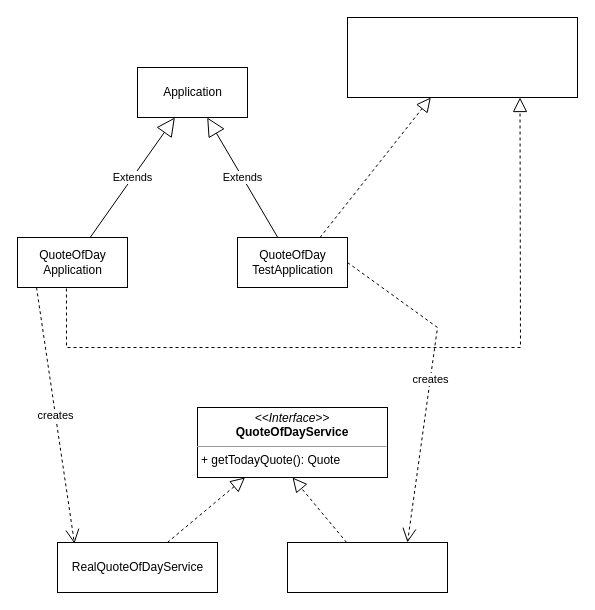
Image size: 595x610. Some labels were removed from this diagram. The centre of each missing label's shape, as x and y in pixels:
<<Interface>> DependenciesContainer + quoteService: QuoteOfDayService: (x=462, y=57)
FakeQuoteOfDayService: (x=367, y=567)
